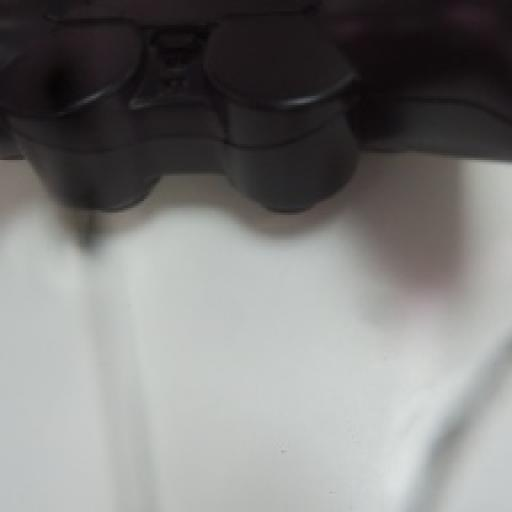game pad: (0, 0, 510, 210)
